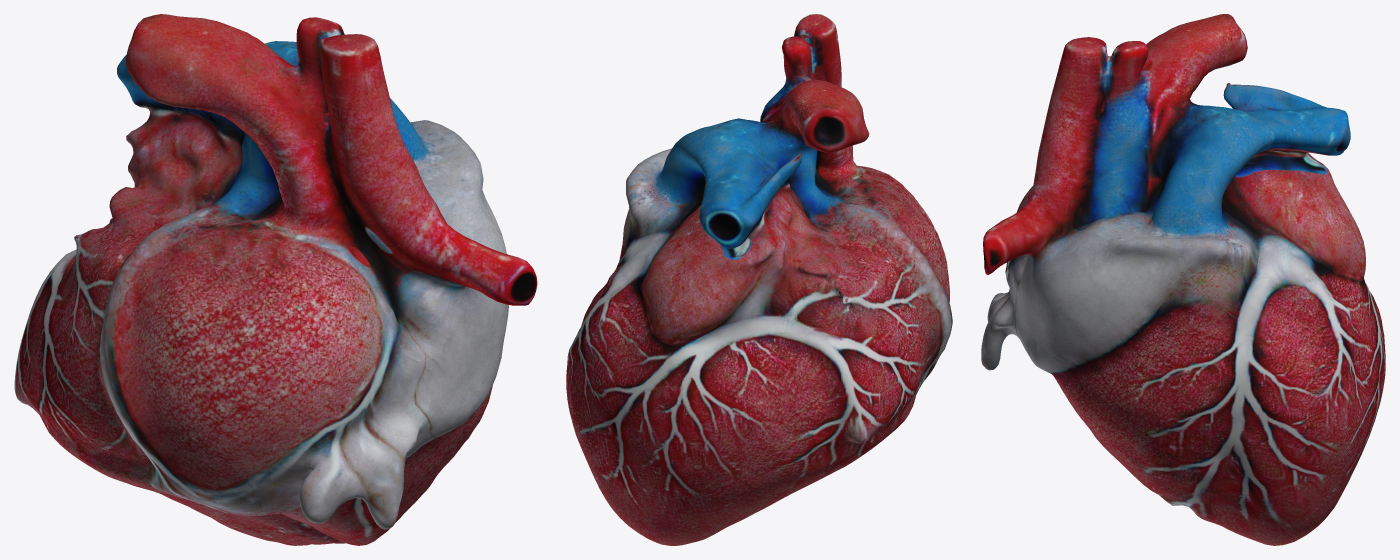
File: Heart.fbx
3 views of the same model, side by side, from view 1: azimuth 30°, elevation 25°; view 2: azimuth 150°, elevation 25°; view 3: azimuth 270°, elevation 25° (orthographic). The views are drawn at different scales.
Visible parts, largest first — view 1: mesh; view 2: mesh; view 3: mesh.
Boxes of the visible parts, box(x1,y1,x2,y2) form: mesh: box(14, 14, 537, 545); mesh: box(566, 14, 952, 545); mesh: box(981, 14, 1385, 545).
Bounding box in the file's own units: 67.95 × 99.88 × 77.48.
